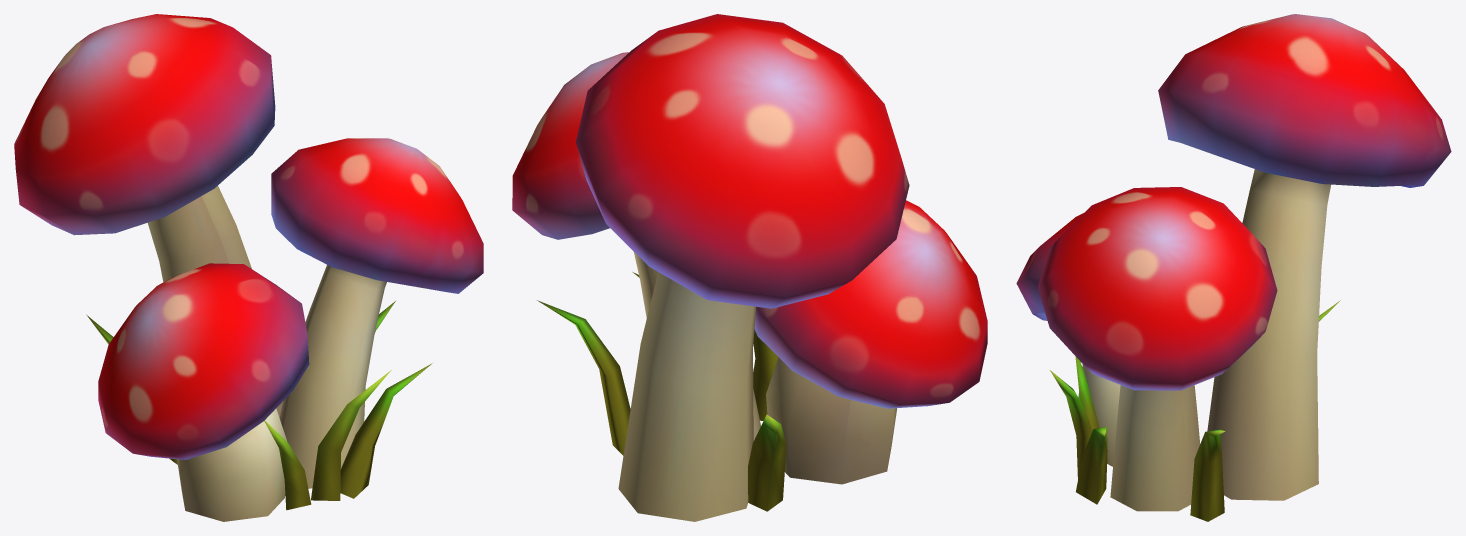
Rendered from MushroomRed1.FBX.
The picture shows the model from 3 angles, left to right: view 1: azimuth 30°, elevation 25°; view 2: azimuth 150°, elevation 25°; view 3: azimuth 270°, elevation 25°; orthographic projection. The views are drawn at different scales.
Visible parts, largest first — view 1: mushroomRed1; view 2: mushroomRed1; view 3: mushroomRed1.
Part boxes in pixels (bbox=[...]): mushroomRed1: bbox=[14, 14, 483, 521]; mushroomRed1: bbox=[512, 14, 987, 521]; mushroomRed1: bbox=[1016, 14, 1451, 521].
Size of the model in its own units: 41.06 by 44.36 by 41.53.
